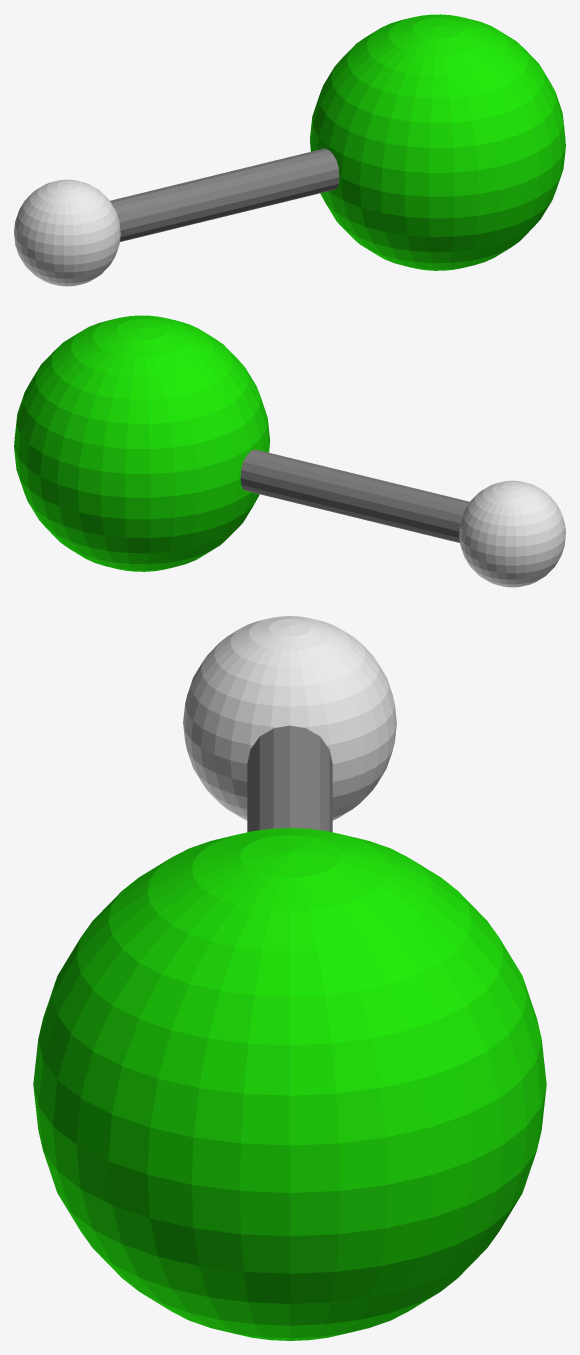
File: HCl.glb
The picture shows the model from 3 angles, top to bottom: view 1: azimuth 30°, elevation 25°; view 2: azimuth 150°, elevation 25°; view 3: azimuth 270°, elevation 25°; orthographic projection. The views are drawn at different scales.
Parts seen in each view (by area): view 1: Sphere.001; view 2: Sphere.001; view 3: Sphere.001.
Boxes of the visible parts, bbox=[...] form: Sphere.001: bbox=[14, 14, 565, 286]; Sphere.001: bbox=[14, 315, 565, 587]; Sphere.001: bbox=[33, 616, 546, 1340].
Bounding box in the file's own units: 2.85 × 1.2 × 1.2.
